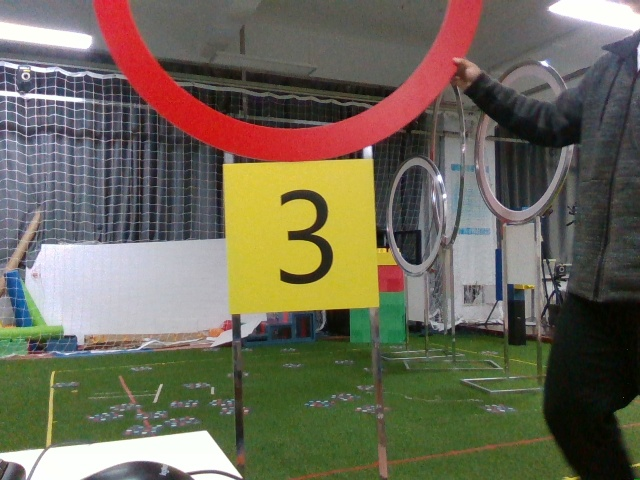target: (222, 168, 377, 302)
